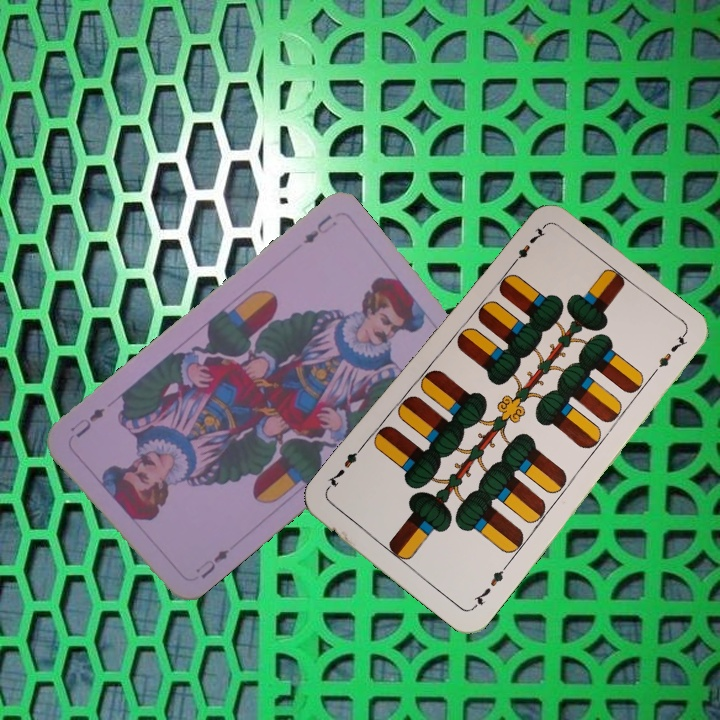E7: (505, 222, 548, 271), (468, 561, 510, 611)
EU: (191, 545, 232, 582), (299, 210, 340, 246)
